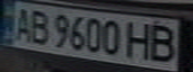0: (100, 17, 124, 56), (84, 16, 106, 54)
6: (66, 14, 87, 52)
9: (48, 11, 72, 48)
A: (9, 4, 36, 43)
B: (145, 21, 181, 64), (24, 7, 54, 46)
H: (124, 18, 157, 61)
